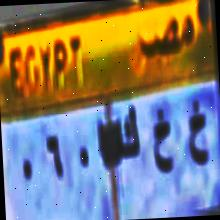0: (16, 150, 36, 190), (76, 130, 91, 181)
6: (42, 130, 64, 188)
kaaf: (113, 100, 142, 176)
khaa: (148, 106, 177, 182), (185, 98, 209, 170)
